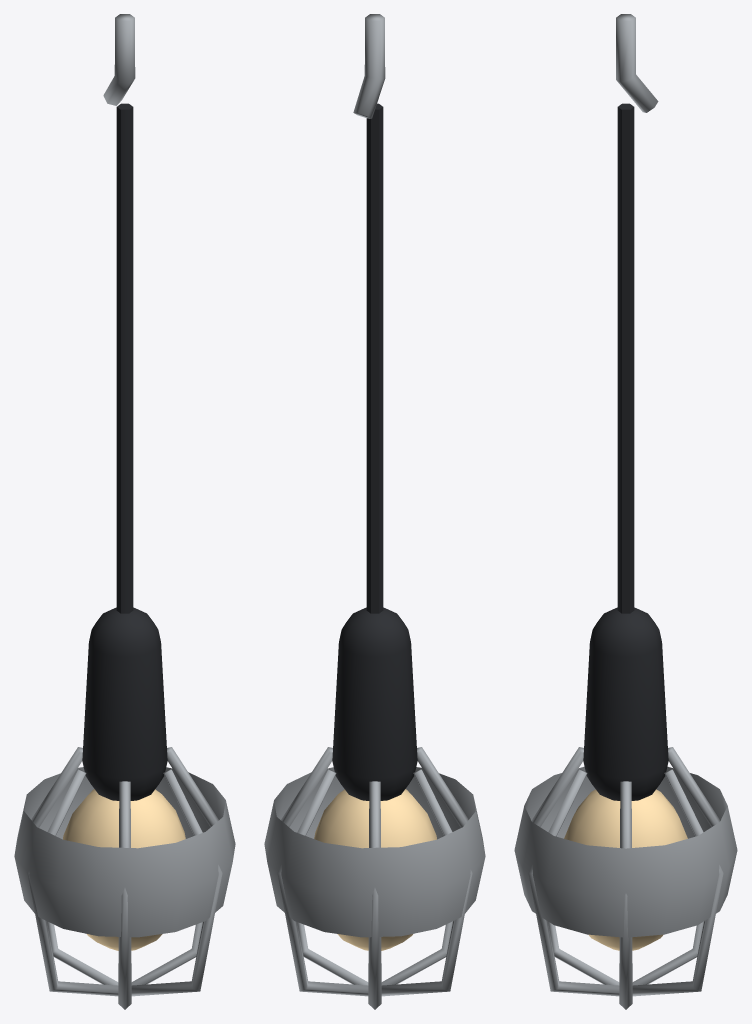
The model's file is work_lamp.fbx.
3 renders of one model, left to right at view 1: azimuth 30°, elevation 25°; view 2: azimuth 150°, elevation 25°; view 3: azimuth 270°, elevation 25°, orthographic.
Visible parts, largest first — view 1: work_lamp; view 2: work_lamp; view 3: work_lamp.
Boxes of the visible parts, x1,y1,x2,y2 form: work_lamp: (14,14,235,1009); work_lamp: (264,14,485,1009); work_lamp: (514,14,737,1009).
Size of the model in its own units: 0.1374 by 0.6584 by 0.136.
